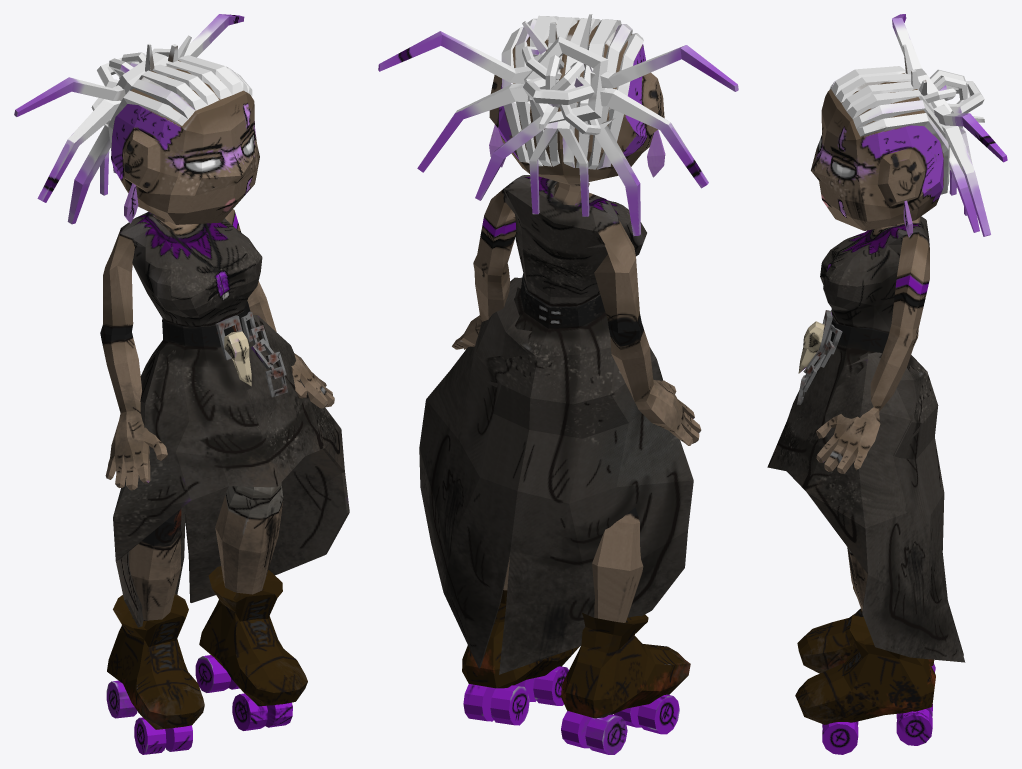
Rendered from bruja_000016.obj.
The picture shows the model from 3 angles, left to right: view 1: azimuth 30°, elevation 25°; view 2: azimuth 150°, elevation 25°; view 3: azimuth 270°, elevation 25°; orthographic projection. The views are drawn at different scales.
Parts seen in each view (by area): view 1: Bruja_Plane.001; view 2: Bruja_Plane.001; view 3: Bruja_Plane.001.
Part boxes in pixels (x1,y1,x2,y2): Bruja_Plane.001: (14, 14, 349, 754); Bruja_Plane.001: (378, 14, 738, 754); Bruja_Plane.001: (767, 14, 1007, 754).
Bounding box in the file's own units: 7.96 × 16.49 × 5.42.
